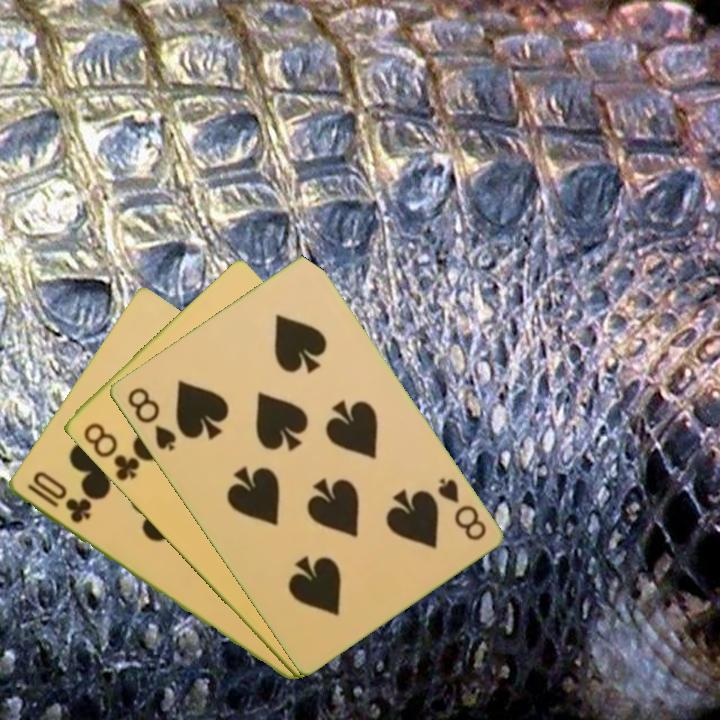10c: (22, 468, 95, 527)
8c: (79, 418, 142, 484)
8s: (123, 383, 179, 454), (433, 474, 489, 544)
